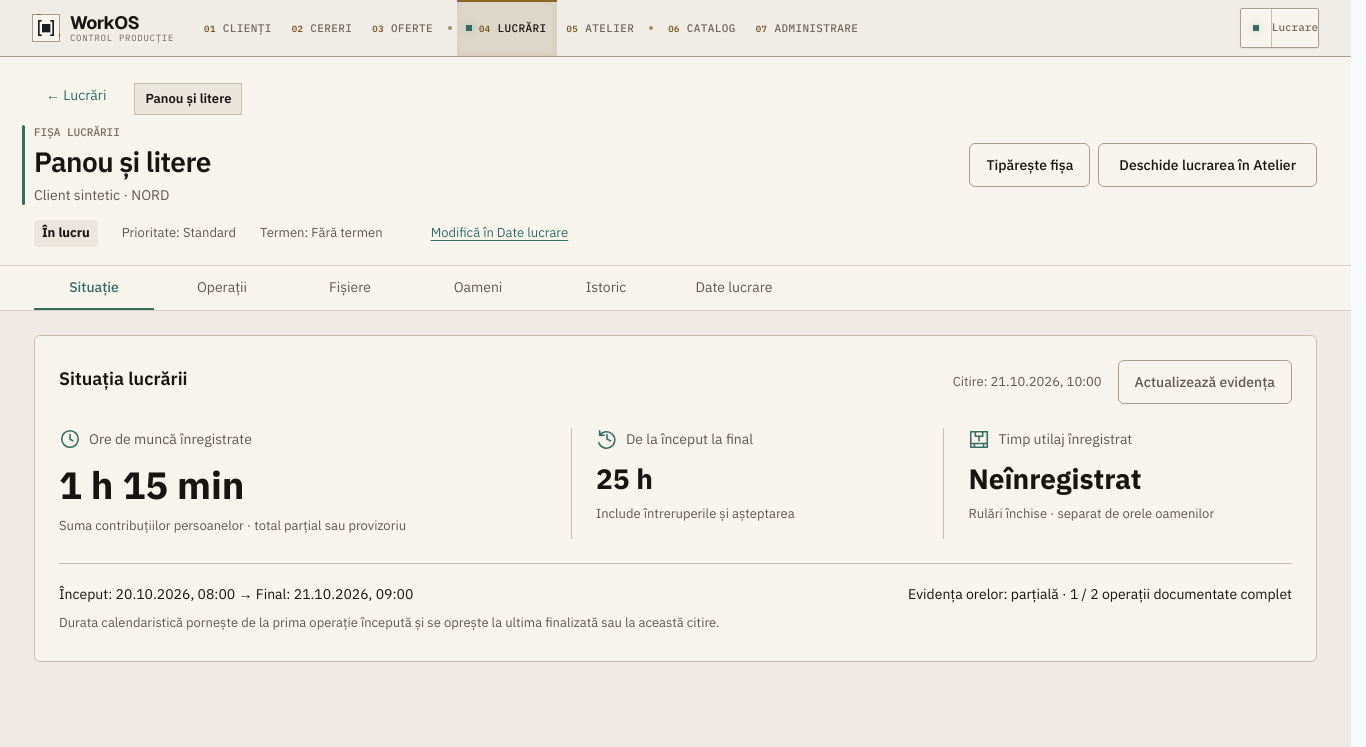
Test case: N-018 · unsaved planning and the browser's Back/Forward › without changes, Back and Forward pass without a question
This screenshot has width=1366, height=747.
Expected: the heading "Situația lucrării" is shown, x1=59 y1=366 x2=188 y2=392
Click the link "Date lucrare".
click(734, 287)  # box x1=696 y1=278 x2=772 y2=296
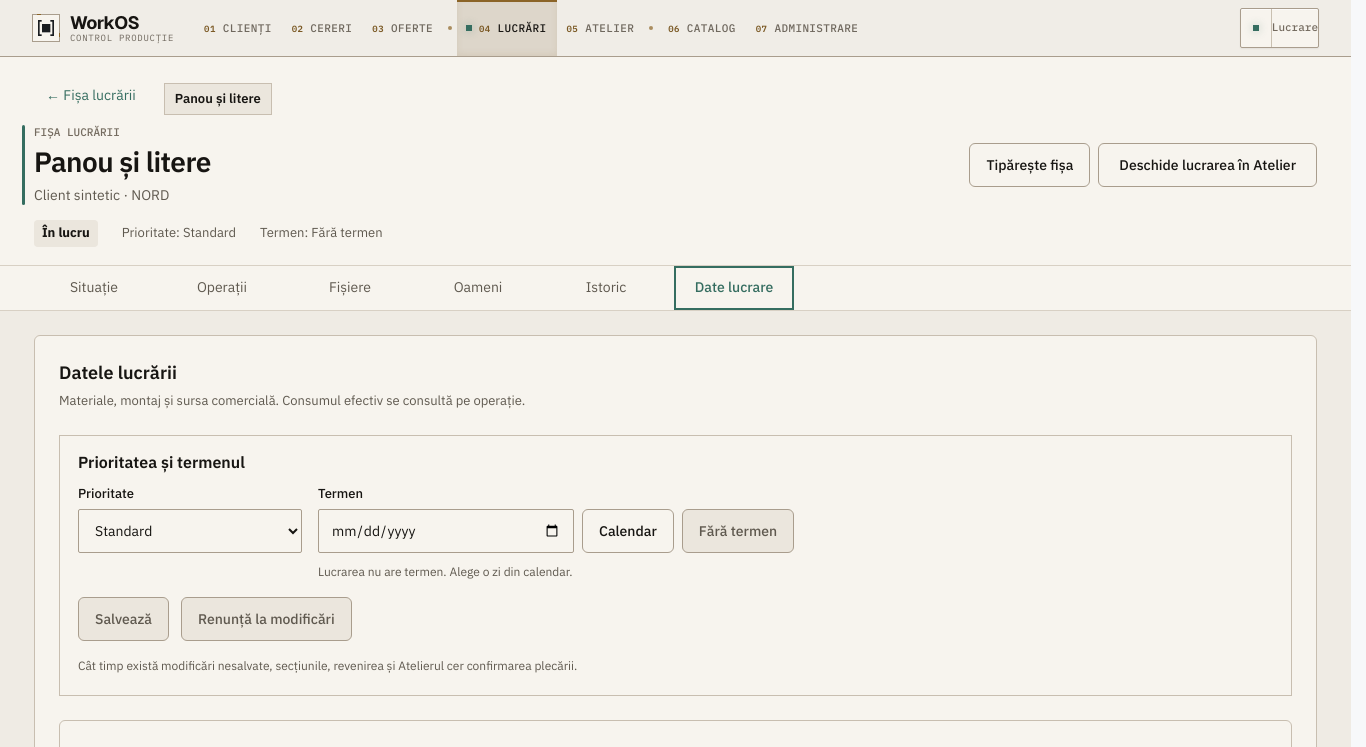
Expected: the element "Prioritatea și termenul" is shown, x1=59 y1=435 x2=1292 y2=696
